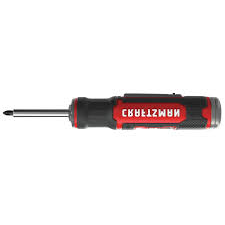Screwdriver: (3, 71, 224, 138)
